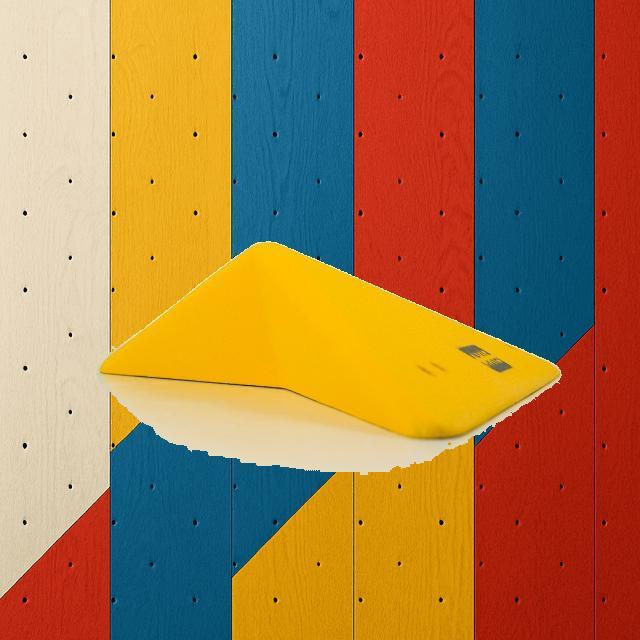Volume: (99, 240, 559, 440)
